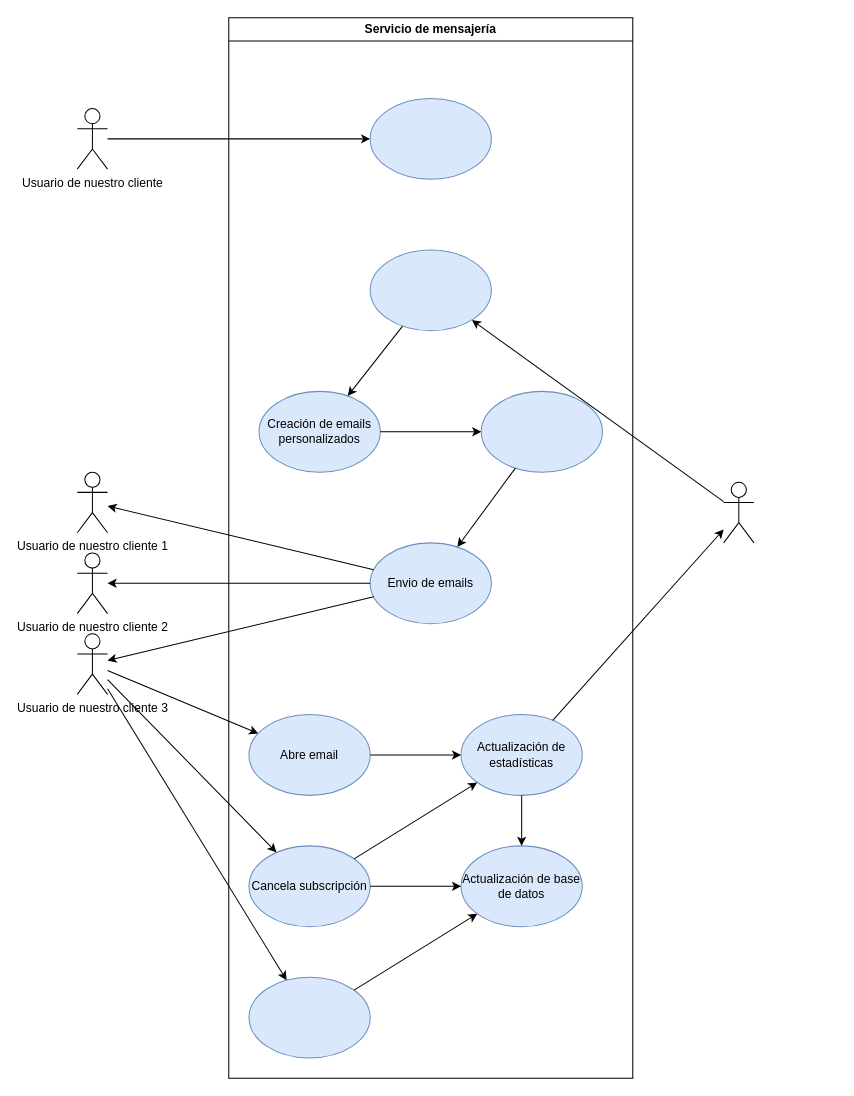
Some shapes in this 854 by 1096 pixel diagram are drawn without their labels. The shapes that lost their labels are listed below. From the top down, each one's centre as x and y in pixels, then its label:
At point (430, 138): "Nueva subscriptión".
At point (430, 290): "Nueva campaña de envio de emails".
At point (541, 431): "Selección de usuarios subcritos al servicio".
At point (738, 512): "Cliente que contrata nuestro servicio".
At point (309, 1017): "Resubscribe (cancelación de subscripción por error)".
